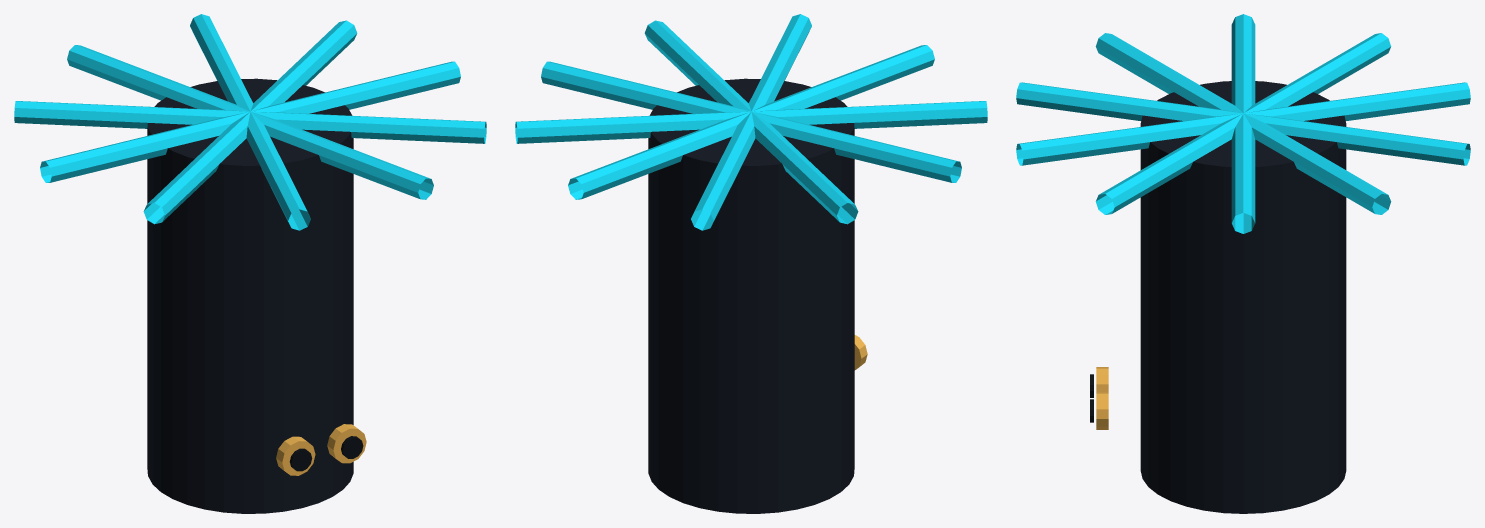
The model's file is 56_L92_SurfaceLidarScanner.fbx.
The picture shows the model from 3 angles, left to right: view 1: azimuth 30°, elevation 25°; view 2: azimuth 150°, elevation 25°; view 3: azimuth 270°, elevation 25°; orthographic projection.
Visible parts, largest first — view 1: L92_SurfaceLidarScanner_Part_0000, L92_SurfaceLidarScanner_Part_0001, L92_SurfaceLidarScanner_Part_0004, L92_SurfaceLidarScanner_Part_0002; view 2: L92_SurfaceLidarScanner_Part_0000, L92_SurfaceLidarScanner_Part_0001; view 3: L92_SurfaceLidarScanner_Part_0000, L92_SurfaceLidarScanner_Part_0001.
Part boxes in pixels (x1,y1,x2,y2): L92_SurfaceLidarScanner_Part_0000: (147, 78, 353, 513); L92_SurfaceLidarScanner_Part_0001: (14, 14, 486, 230); L92_SurfaceLidarScanner_Part_0004: (327, 424, 366, 463); L92_SurfaceLidarScanner_Part_0002: (276, 436, 315, 475); L92_SurfaceLidarScanner_Part_0000: (648, 78, 854, 513); L92_SurfaceLidarScanner_Part_0001: (515, 14, 987, 230); L92_SurfaceLidarScanner_Part_0000: (1140, 81, 1346, 513); L92_SurfaceLidarScanner_Part_0001: (1016, 14, 1470, 233).
Size of the model in its own units: 160 by 134 by 155.
